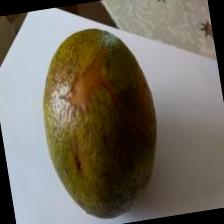Orange Rotten: (25, 11, 179, 224)
